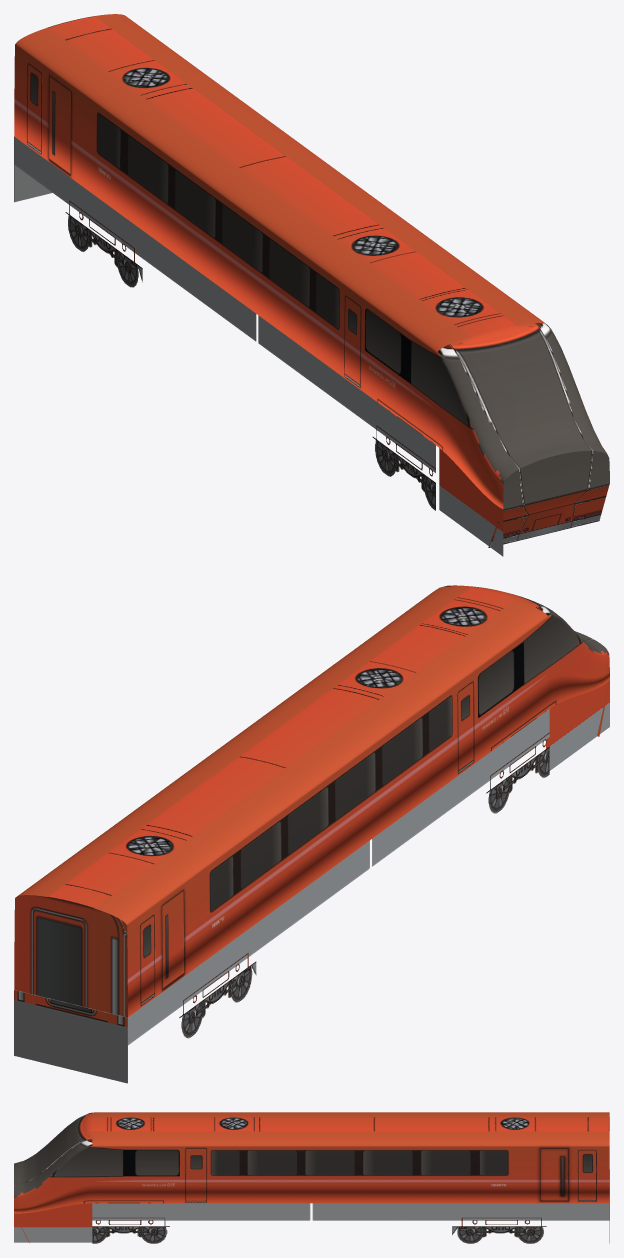
The model's file is car1.glb.
3 renders of one model, top to bottom at view 1: azimuth 30°, elevation 25°; view 2: azimuth 150°, elevation 25°; view 3: azimuth 270°, elevation 25°, orthographic. The views are drawn at different scales.
Visible parts, largest first — view 1: osakyu-70000-car1; view 2: osakyu-70000-car1; view 3: osakyu-70000-car1.
Boxes of the visible parts, x1,y1,x2,y2 form: osakyu-70000-car1: (14, 14, 609, 556); osakyu-70000-car1: (14, 585, 609, 1083); osakyu-70000-car1: (14, 1112, 609, 1243).
Bounding box in the file's own units: 2.88 × 4.06 × 21.31.
Materials: 10 (9 with a texture image).
